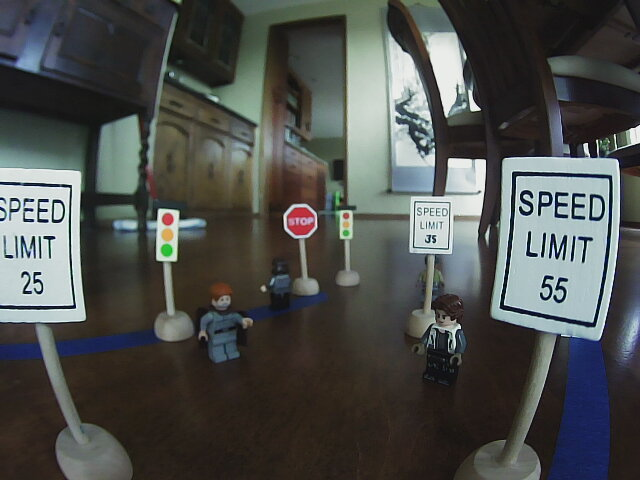SpeedLimit25: (1, 174, 75, 318)
SpeedLimit35: (412, 197, 450, 251)
SpeedLimit55: (506, 160, 607, 330)
StopSign: (283, 205, 316, 236)
TrafficLight: (155, 202, 178, 261), (337, 206, 353, 240)
person: (412, 292, 470, 387), (194, 283, 255, 364), (262, 259, 293, 305)
